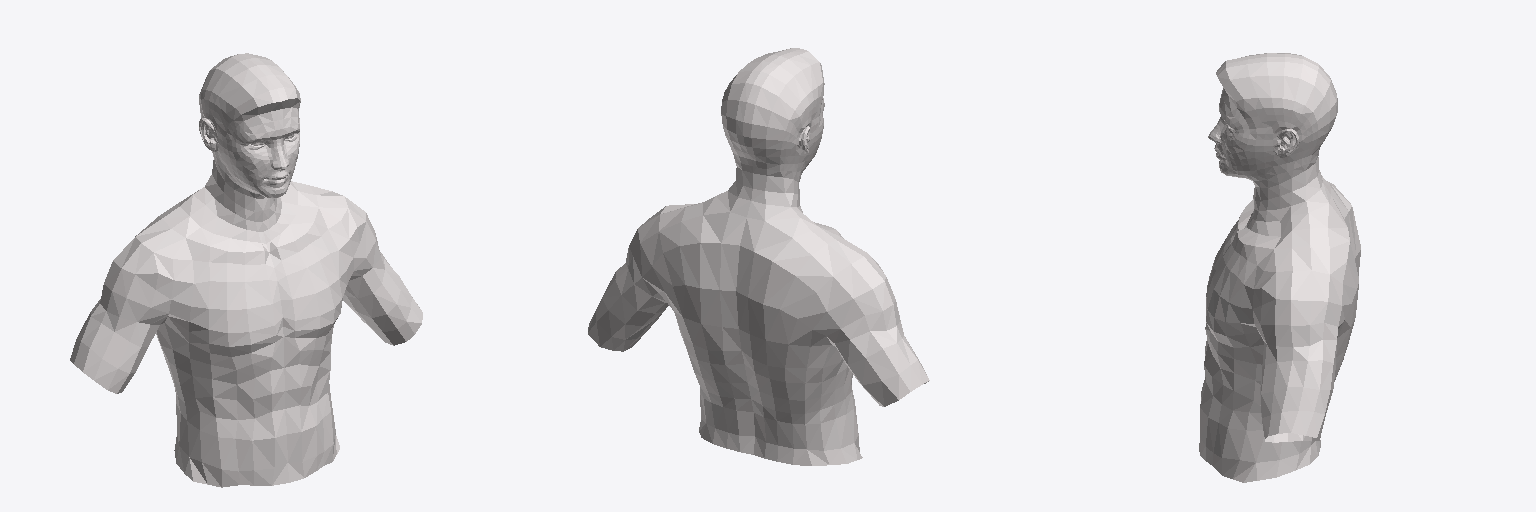
Rendered from Body_2.obj.
The picture shows the model from 3 angles: view 1: azimuth 30°, elevation 25°; view 2: azimuth 150°, elevation 25°; view 3: azimuth 270°, elevation 25°; orthographic projection.
Visible parts, largest first — view 1: Body1 group2; view 2: Body1 group2; view 3: Body1 group2.
Boxes of the visible parts, <box> form: Body1 group2: <box>70,53,422,487</box>; Body1 group2: <box>588,48,929,465</box>; Body1 group2: <box>1199,53,1360,482</box>.
Bounding box in the file's own units: 8.89 × 9.94 × 3.72.